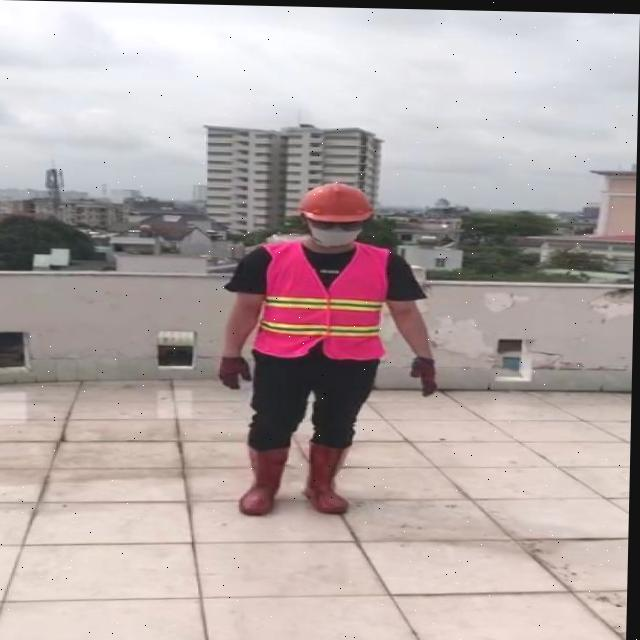Gloves: (219, 354, 253, 388), (411, 353, 438, 395)
Safety-Boot: (240, 439, 290, 514), (304, 435, 352, 513)
Safety-Vest: (253, 237, 391, 361)
